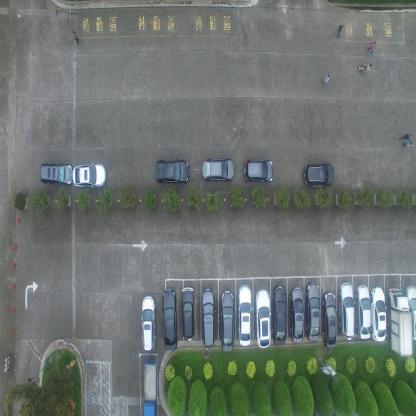car: (388, 287, 413, 357), (140, 294, 158, 351), (338, 281, 355, 341), (162, 288, 178, 351), (200, 154, 235, 182), (370, 286, 387, 343), (153, 158, 190, 184), (255, 288, 271, 348), (237, 284, 252, 347), (272, 284, 287, 346), (306, 280, 321, 342), (72, 162, 107, 188), (200, 286, 215, 346), (220, 288, 234, 352), (142, 359, 158, 415), (242, 155, 274, 182), (356, 284, 371, 341), (302, 162, 334, 188), (290, 285, 304, 344), (39, 162, 73, 186), (322, 291, 336, 349), (181, 286, 195, 342), (404, 285, 416, 342)
